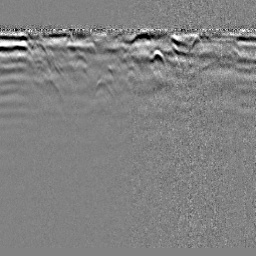cavity: (148, 45, 166, 64)
